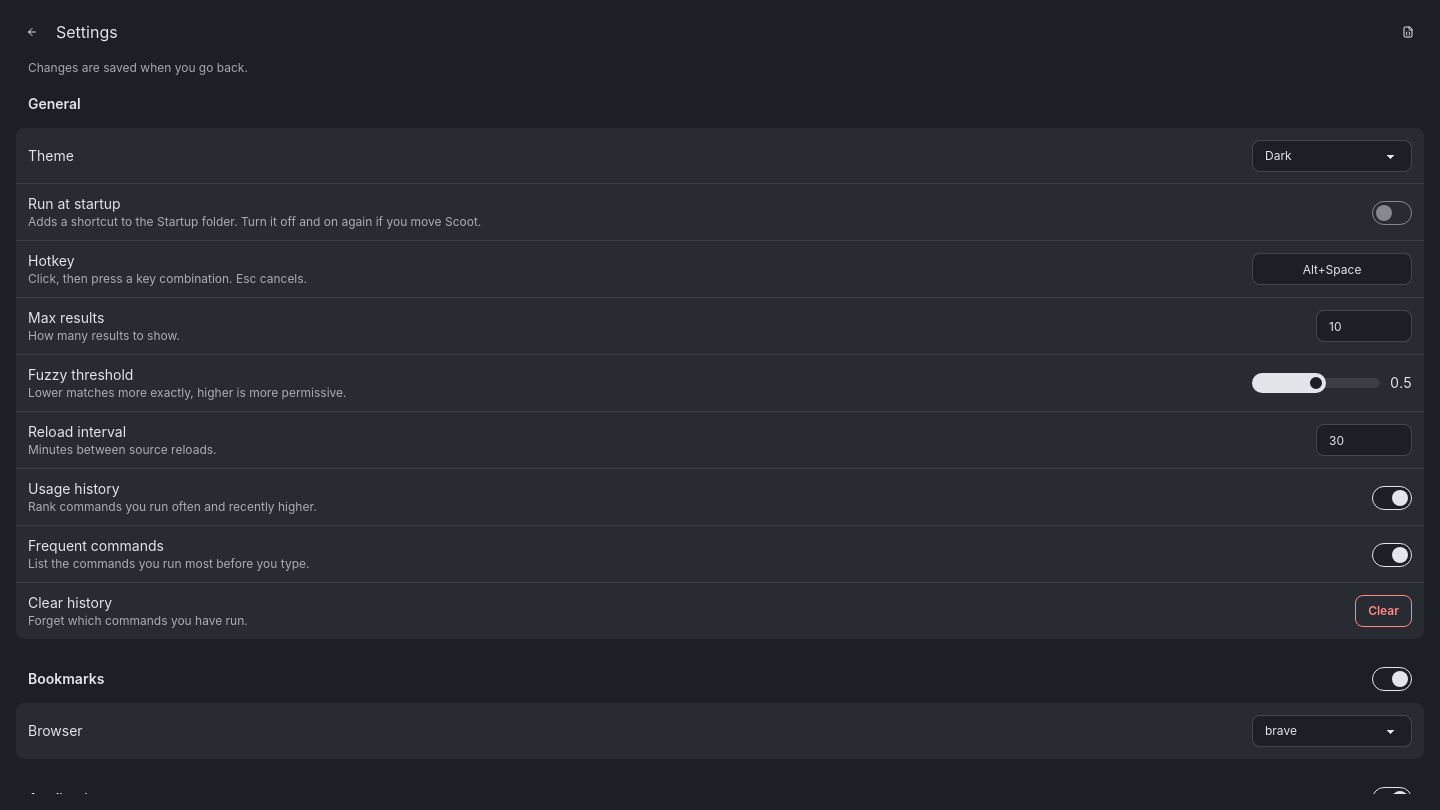
SettingsScreen closing › saves edits, says so, and closes
The image size is (1440, 810).
Select "Light" in the dropdown labelled "Theme" at {"x": 1332, "y": 156}, box [1252,140,1412,172]
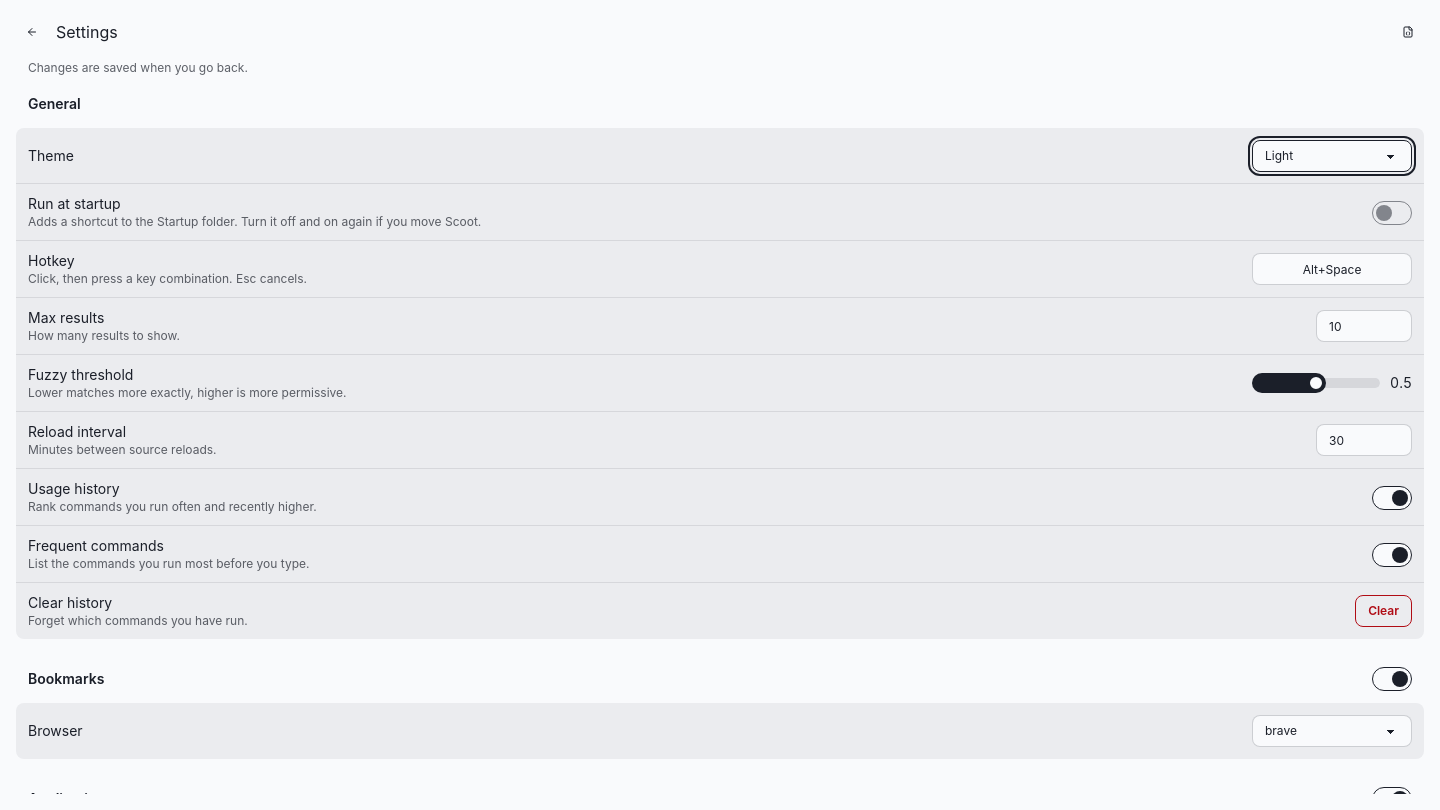
Click the button named "Back" at {"x": 32, "y": 32}, box [16,16,48,48]
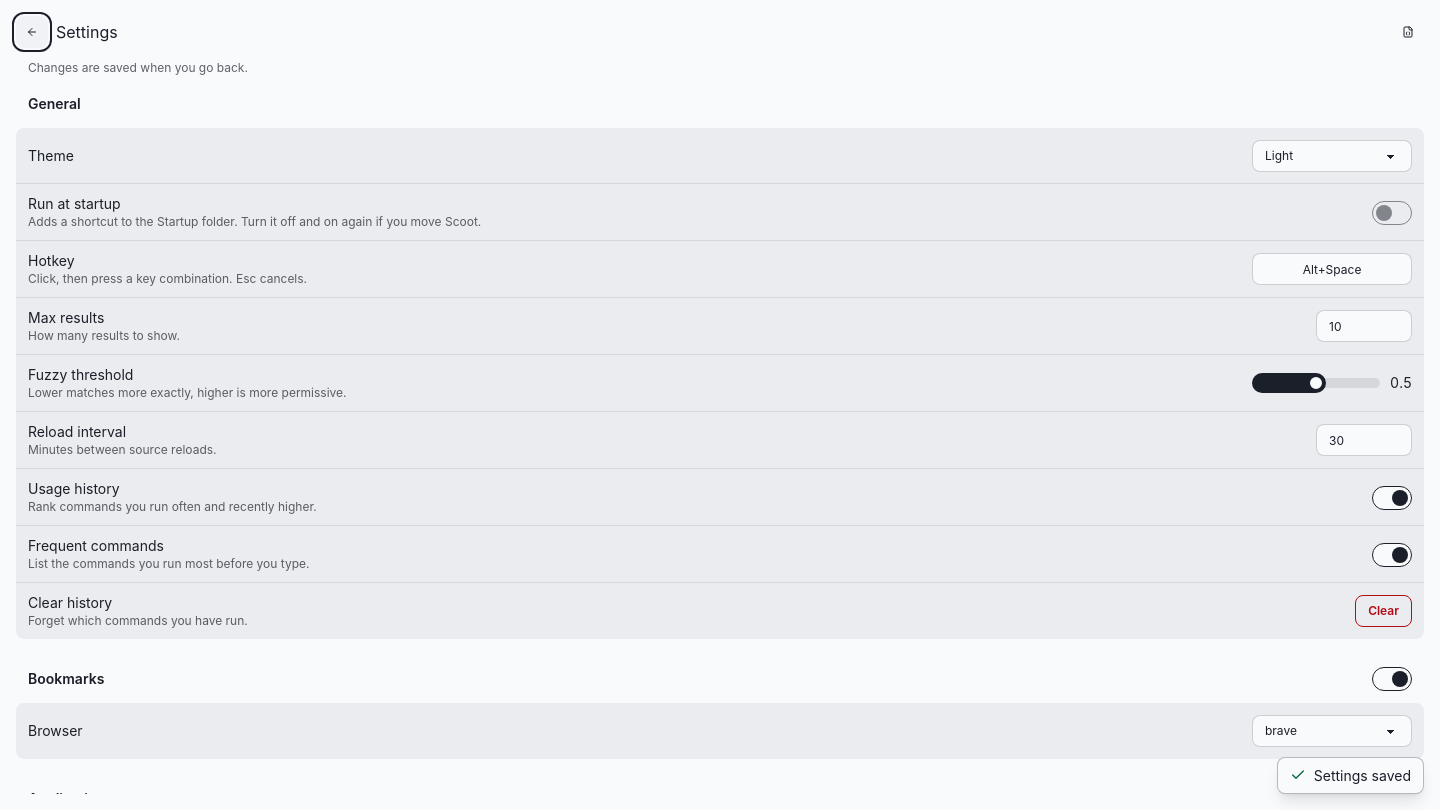
Now the text "Settings saved" is shown, box [1314,766,1411,785]
